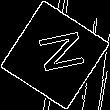N_W: (26, 30, 84, 80)
